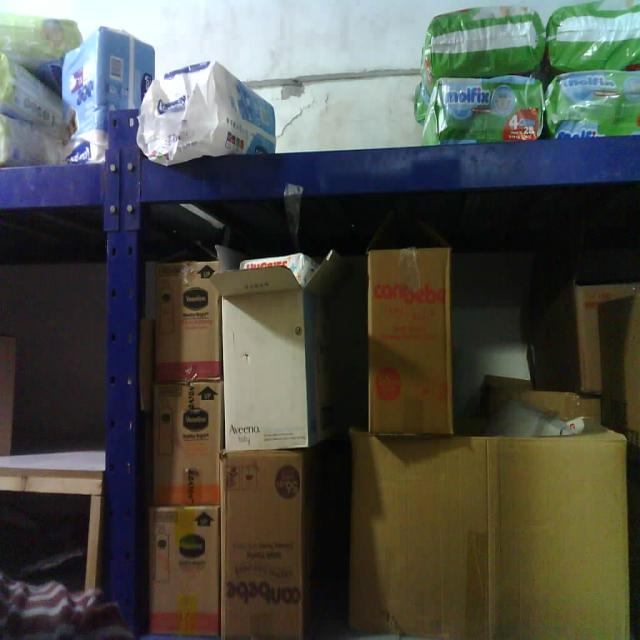box: (350, 431, 632, 640), (368, 245, 453, 438), (222, 450, 304, 640), (148, 504, 222, 640), (149, 262, 222, 386), (151, 381, 224, 504)
